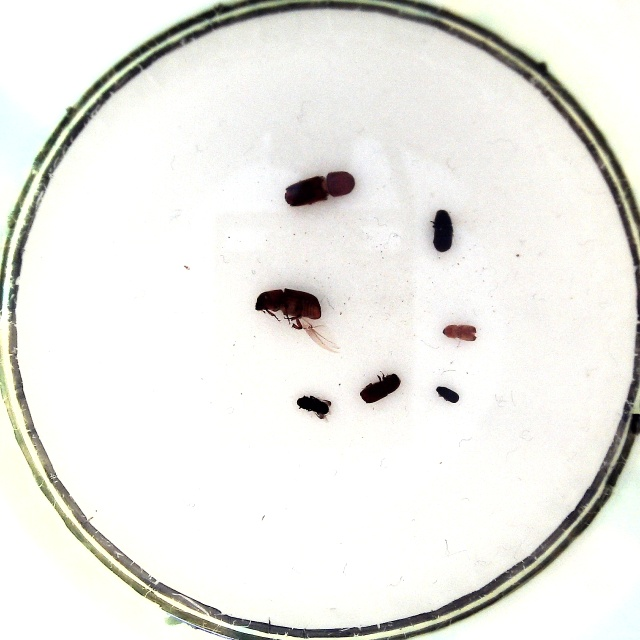acuminatus: (440, 323, 481, 344)
armandi: (428, 206, 457, 256)
boerner: (281, 168, 358, 207)
coleoptera: (294, 390, 334, 421), (432, 382, 462, 407)
leconte: (251, 285, 337, 353)
linnaeus: (358, 369, 402, 404)
